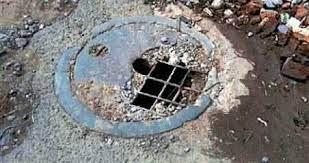open manhole-not overflowing-: (65, 25, 215, 130)
